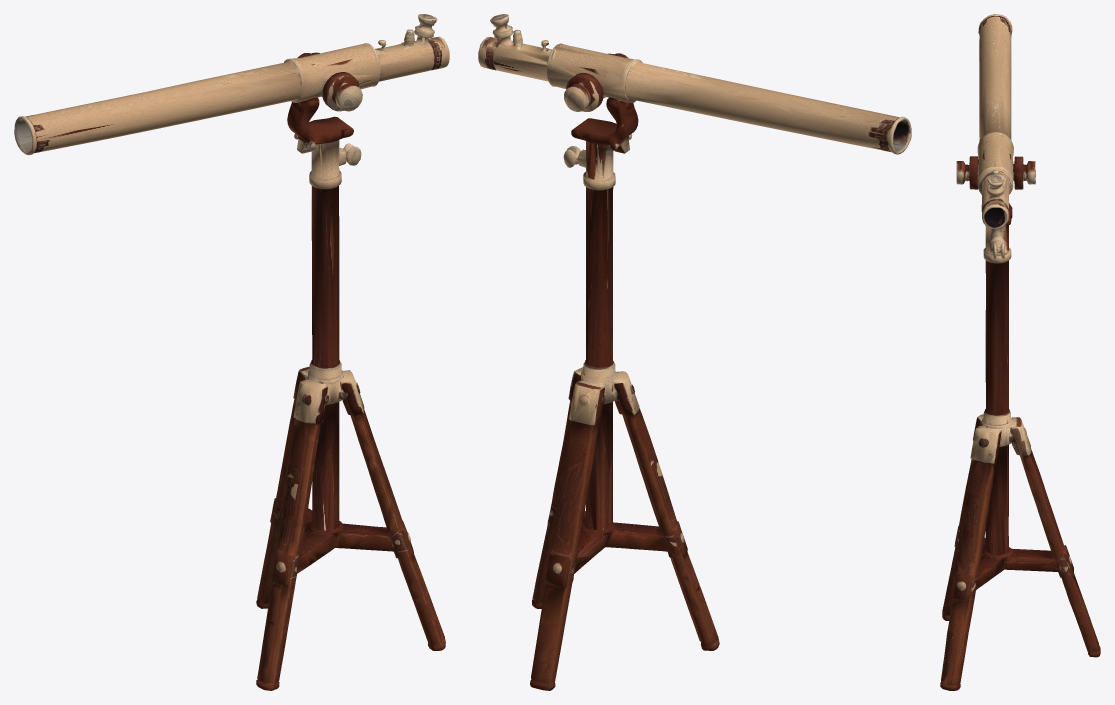
Rendered from telescope.glb.
3 views of the same model, side by side, from view 1: azimuth 30°, elevation 25°; view 2: azimuth 150°, elevation 25°; view 3: azimuth 270°, elevation 25° (orthographic). The views are drawn at different scales.
Visible parts, largest first — view 1: telescope; view 2: telescope; view 3: telescope.
Part boxes in pixels (box(x1,y1,x2,y2)): telescope: box(14, 14, 449, 690); telescope: box(478, 14, 911, 690); telescope: box(940, 14, 1100, 690).
Size of the model in its own units: 1.08 by 1.49 by 0.4197.
Materials: 1 (1 with a texture image).
